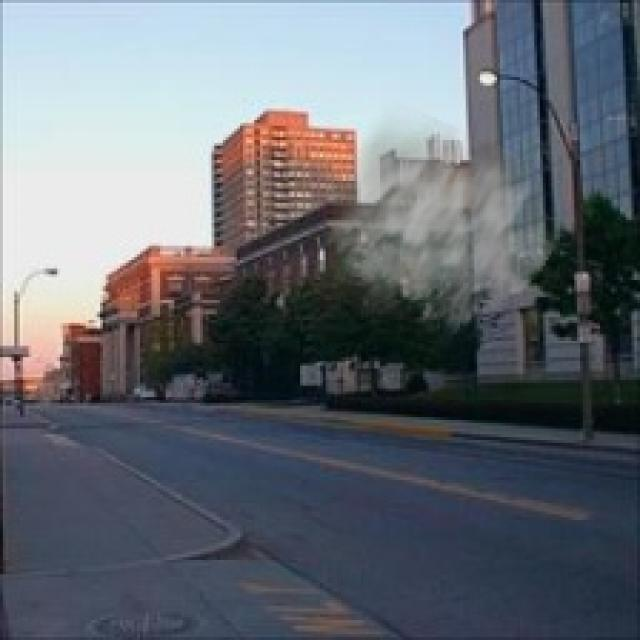Smoke: (314, 100, 569, 337)
